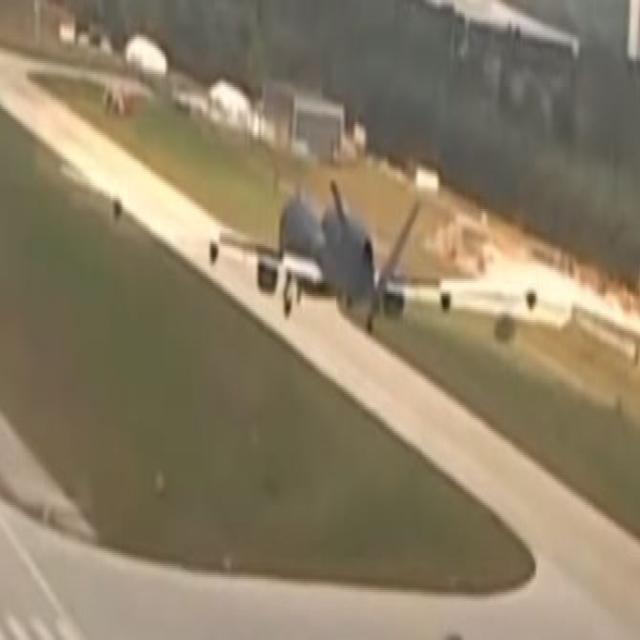iha: (71, 160, 574, 339)
